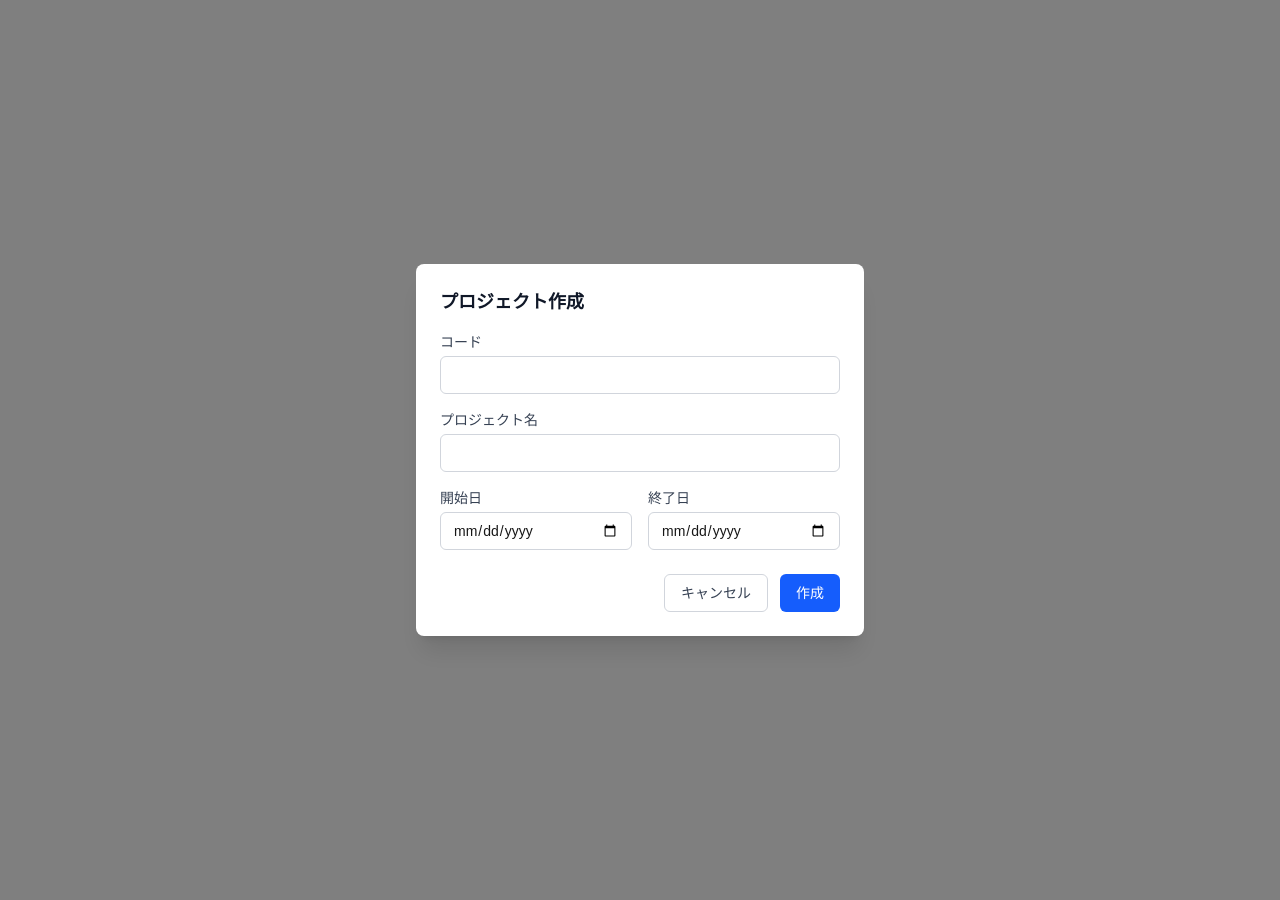
Test case: ProjectForm › Create mode › shows validation error when end date before start date
Type "NEW001" into the field labelled "コード". click: coordinates (640, 375)
box: x1=440 y1=356 x2=840 y2=394
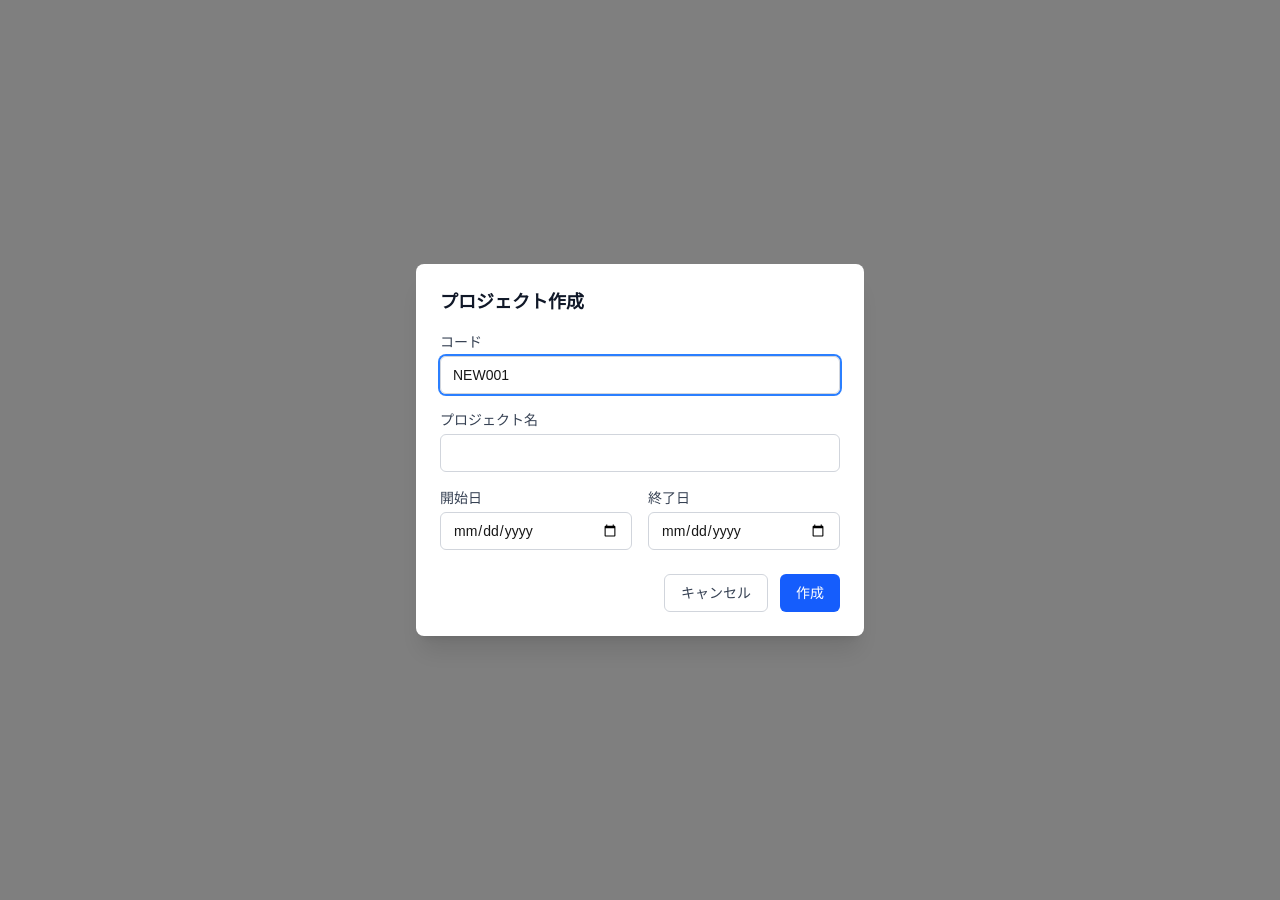
Type "New Project" into the field labelled "プロジェクト名". click: coordinates (640, 453)
box: x1=440 y1=434 x2=840 y2=472
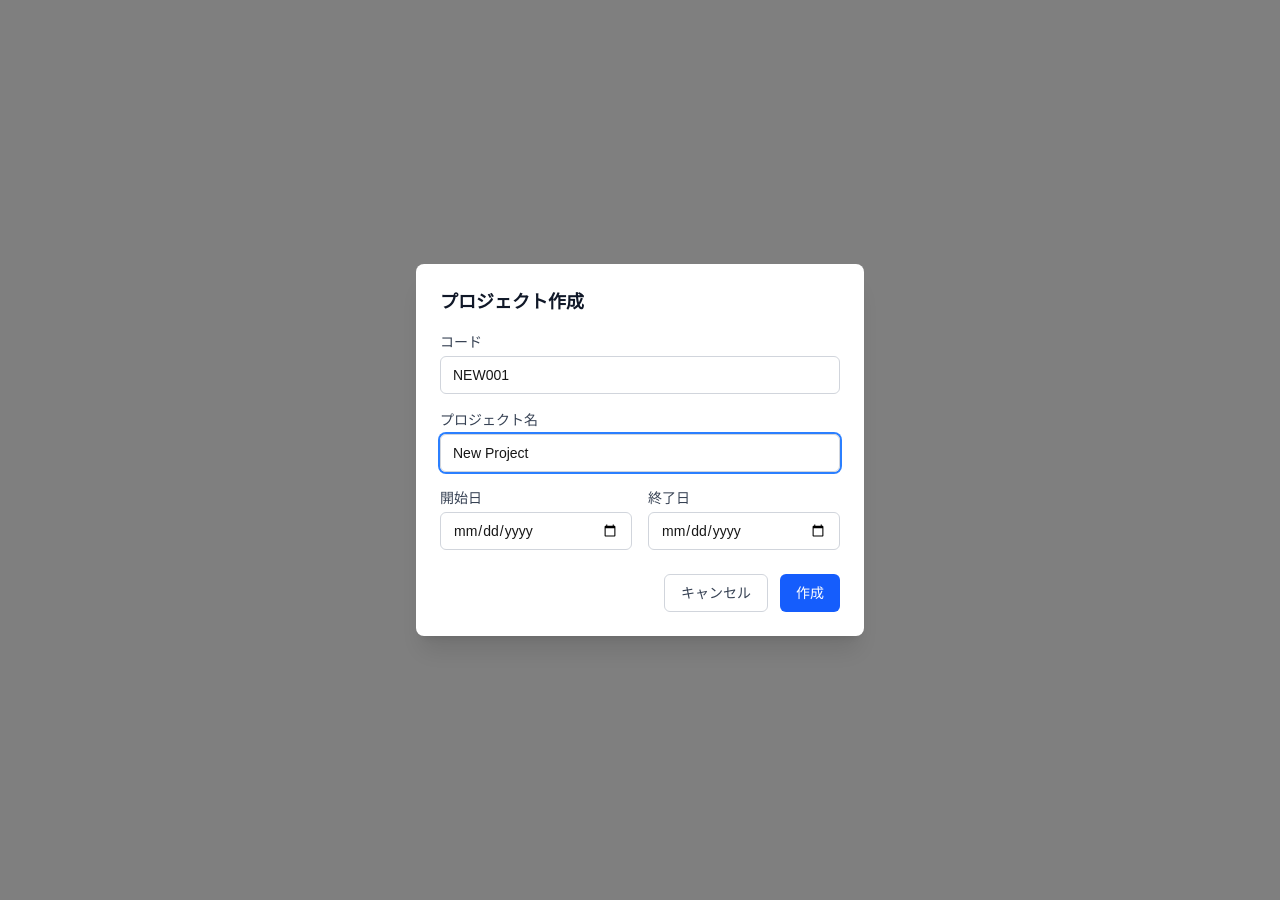
Type "2026-12-01" into the date field labelled "開始日". click: coordinates (536, 531)
box: x1=440 y1=512 x2=632 y2=550
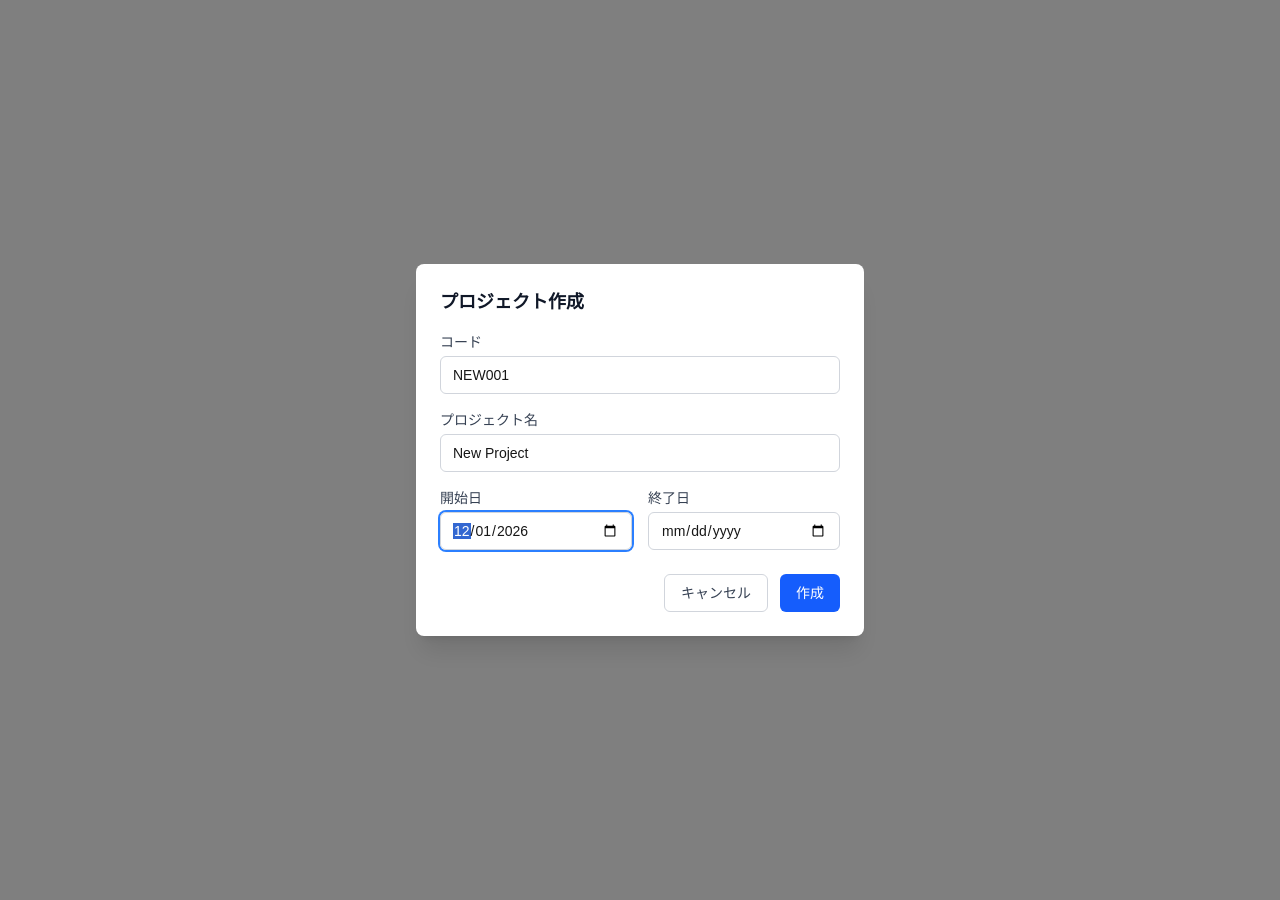
Type "2026-01-01" into the date field labelled "終了日". click: coordinates (744, 531)
box: x1=648 y1=512 x2=840 y2=550
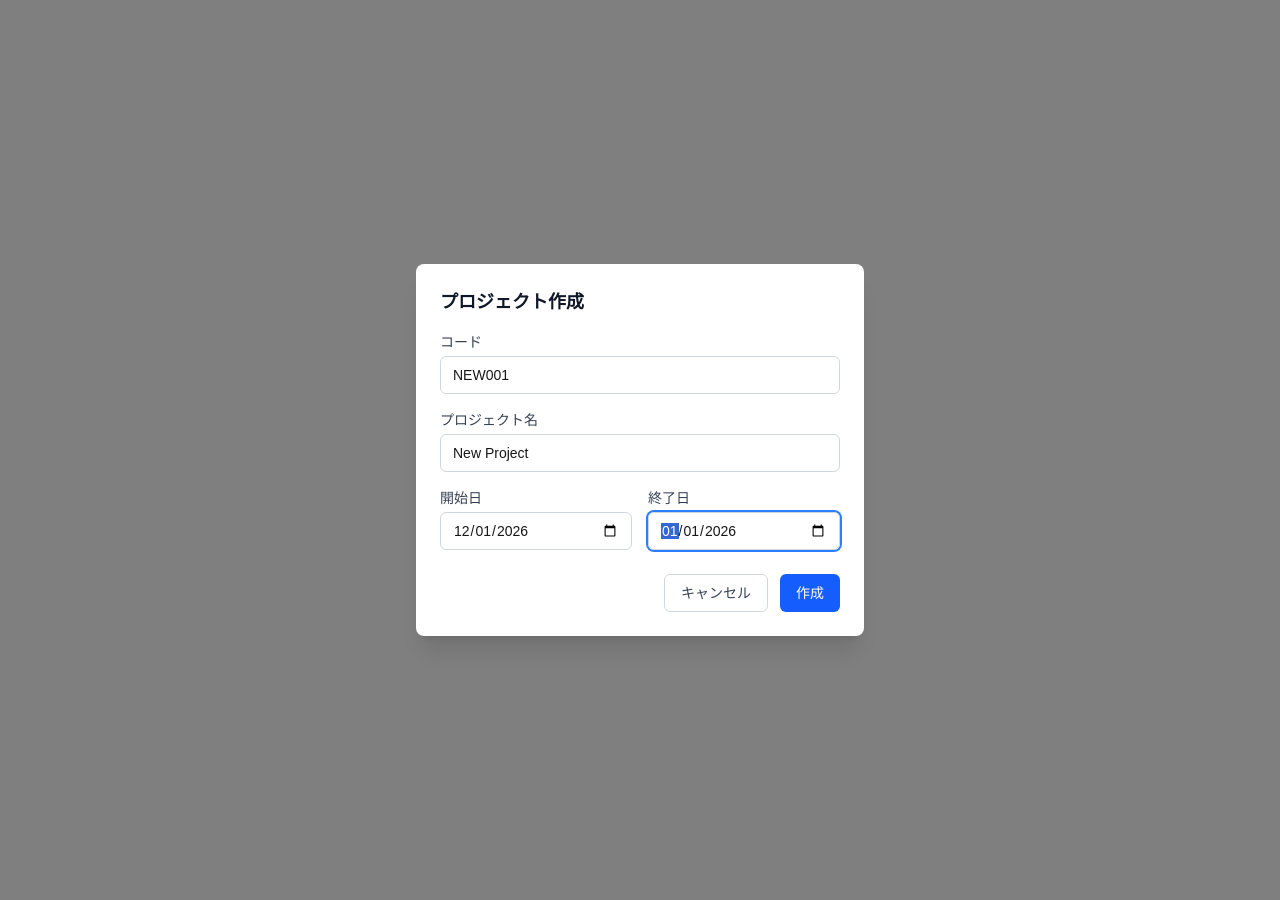
Click the button "作成". click: coordinates (810, 593)
box: x1=780 y1=574 x2=840 y2=612
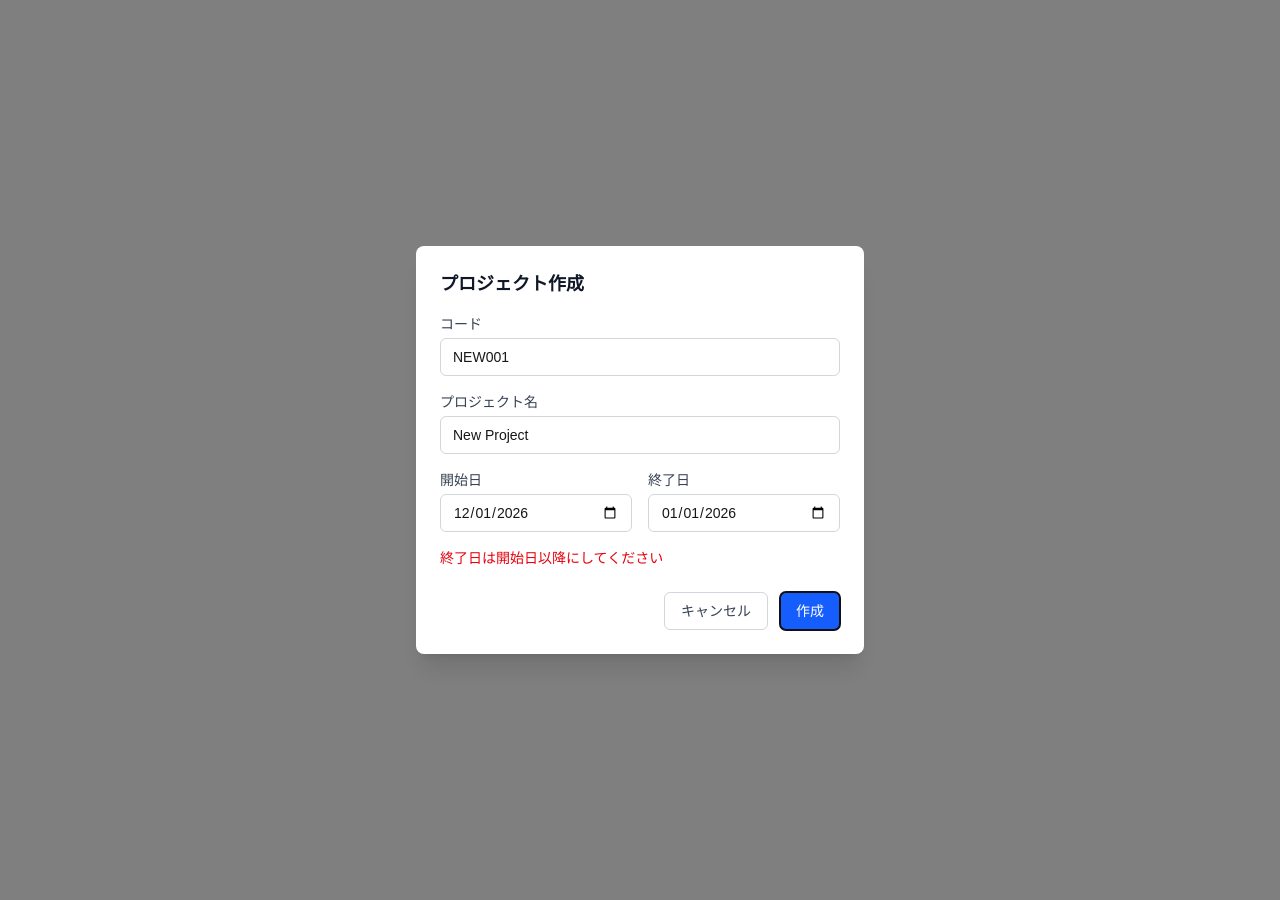
Check: the text "終了日は開始日以降にしてください" is shown, box x1=440 y1=550 x2=663 y2=566
